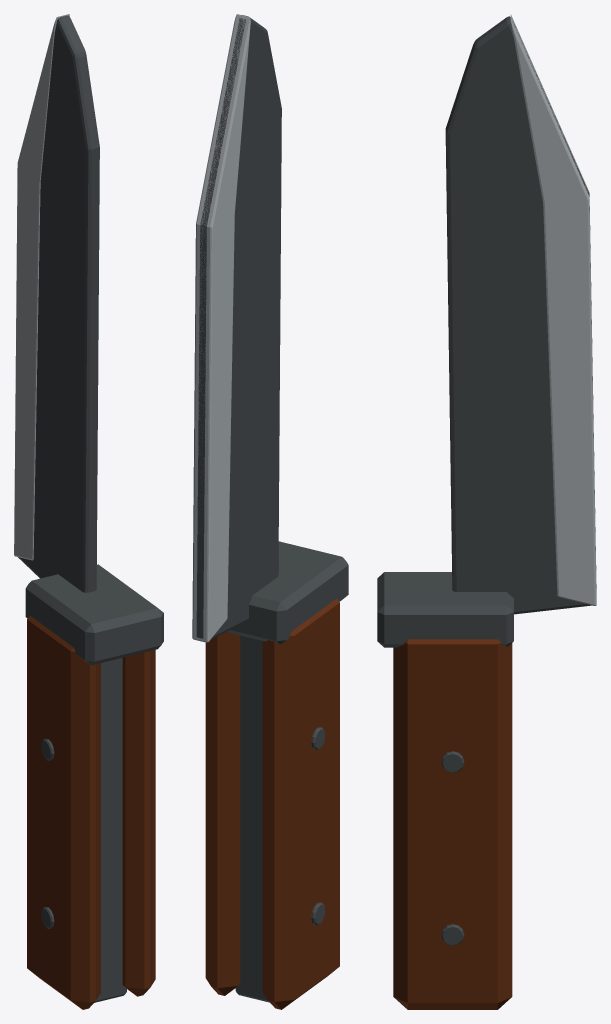
Rendered from knife.glb.
3 views of the same model, side by side, from view 1: azimuth 30°, elevation 25°; view 2: azimuth 150°, elevation 25°; view 3: azimuth 270°, elevation 25° (orthographic). The views are drawn at different scales.
Parts seen in each view (by area): view 1: knife; view 2: knife; view 3: knife.
Part boxes in pixels (x1,y1,x2,y2): knife: (14, 14, 163, 1009); knife: (192, 14, 348, 1009); knife: (377, 14, 596, 1009).
Bounding box in the file's own units: 0.03 × 0.2997 × 0.061.
